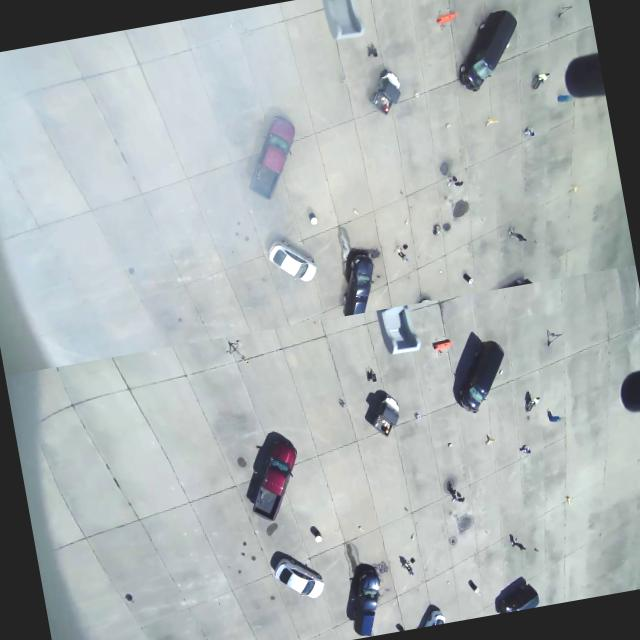car: (444, 0, 531, 99), (233, 424, 309, 530), (233, 108, 304, 202), (448, 321, 512, 414), (339, 556, 397, 640), (328, 238, 389, 316), (262, 544, 326, 604), (262, 234, 320, 294)
